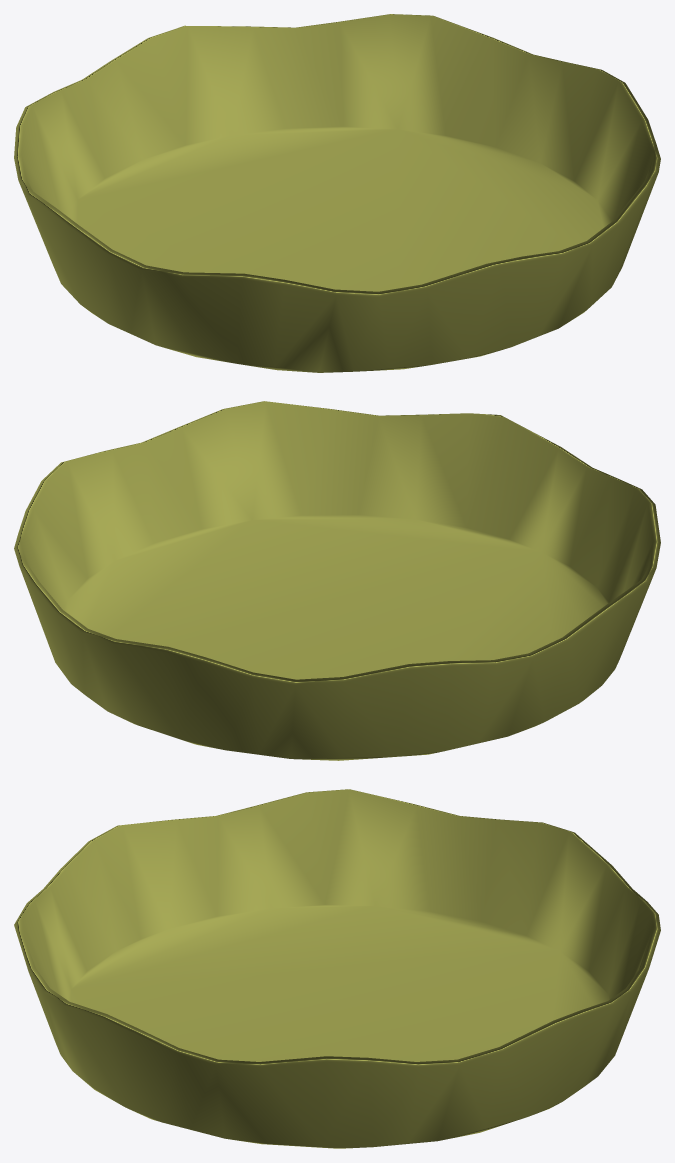
The model's file is crostata_piatto_LOD2.fbx.
3 views of the same model, one above another, from view 1: azimuth 30°, elevation 25°; view 2: azimuth 150°, elevation 25°; view 3: azimuth 270°, elevation 25° (orthographic).
Visible parts, largest first — view 1: Cube_008; view 2: Cube_008; view 3: Cube_008.
Boxes of the visible parts, x1=… form: Cube_008: x1=14, y1=14, x2=660, y2=372; Cube_008: x1=14, y1=401, x2=660, y2=760; Cube_008: x1=14, y1=789, x2=660, y2=1148.
Bounding box in the file's own units: 84.28 × 15.44 × 84.41.
